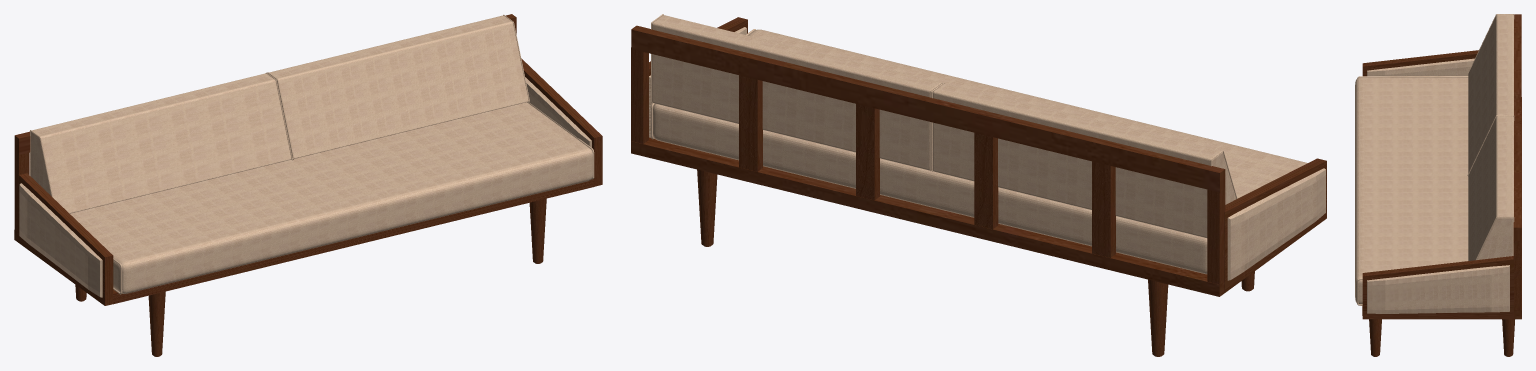
File: execfixedgit.glb
3 renders of one model, left to right at view 1: azimuth 30°, elevation 25°; view 2: azimuth 150°, elevation 25°; view 3: azimuth 270°, elevation 25°, orthographic. The views are drawn at different scales.
Parts seen in each view (by area): view 1: Cube.015, Cylinder.001; view 2: Cube.015, Cylinder.001; view 3: Cube.015, Cylinder.001.
Part boxes in pixels (x1,y1,x2,y2): Cube.015: (19, 14, 594, 297); Cylinder.001: (14, 14, 602, 356); Cube.015: (649, 14, 1325, 280); Cylinder.001: (631, 17, 1326, 356); Cube.015: (1355, 14, 1514, 313); Cylinder.001: (1362, 14, 1521, 356).
Bounding box in the file's own units: 9.48 × 3.22 × 3.08.
2 materials, 2 textured.
